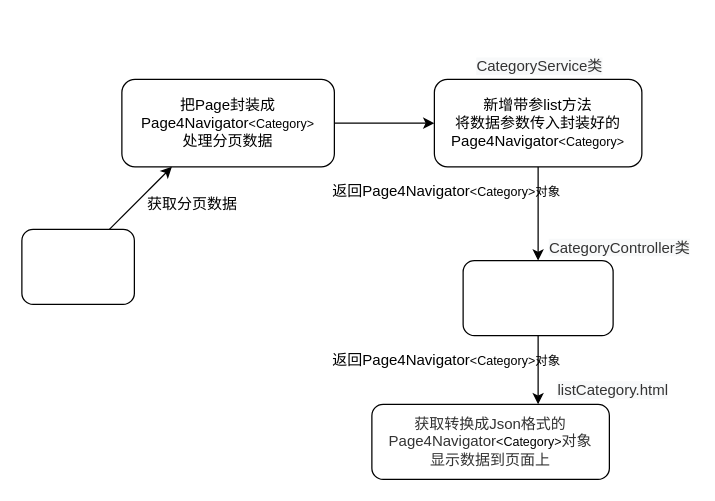
This 715x501 diagram has some shape labels left out. Here are the shapes that lost their labels. From the top down, the centre of each, then its label:
At [77,266]: "JPA的分页类 Page".
At [537,297]: "修改list方法 接收start和size参数".
